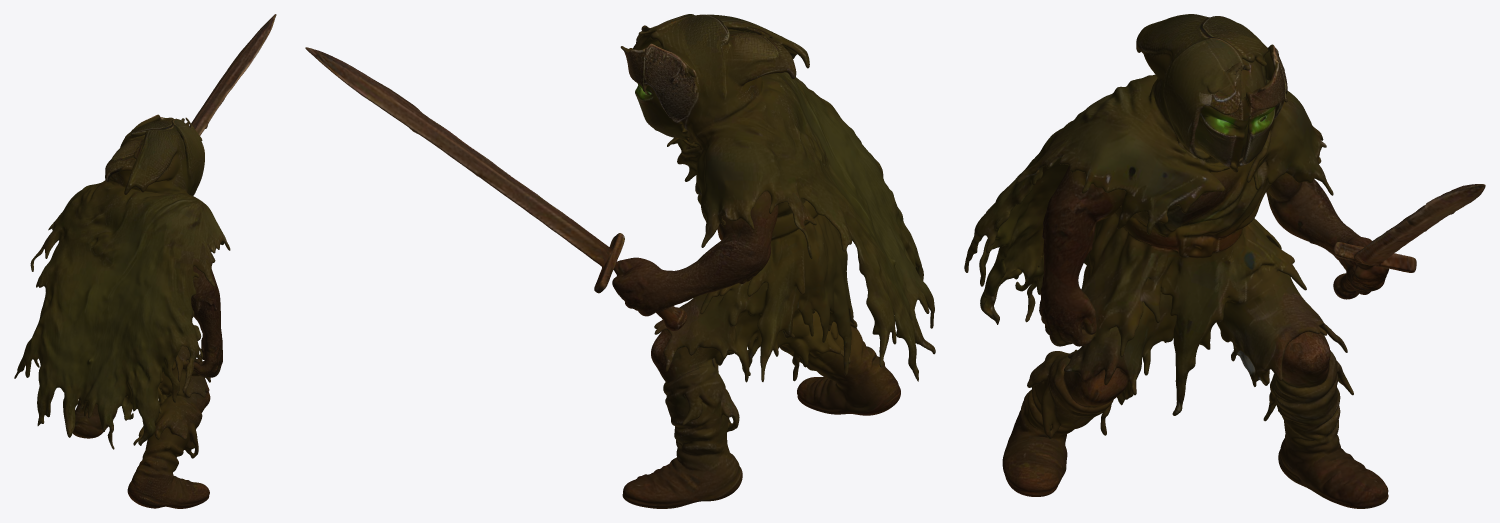
3 views of the same model, side by side, from view 1: azimuth 30°, elevation 25°; view 2: azimuth 150°, elevation 25°; view 3: azimuth 270°, elevation 25° (orthographic). The views are drawn at different scales.
Visible parts, largest first — view 1: tripo_node_5dc2ac71-28a2-4560-be86-e5472d33cbaf; view 2: tripo_node_5dc2ac71-28a2-4560-be86-e5472d33cbaf; view 3: tripo_node_5dc2ac71-28a2-4560-be86-e5472d33cbaf.
Part boxes in pixels (x1,y1,x2,y2): tripo_node_5dc2ac71-28a2-4560-be86-e5472d33cbaf: (14, 14, 276, 508); tripo_node_5dc2ac71-28a2-4560-be86-e5472d33cbaf: (305, 14, 935, 508); tripo_node_5dc2ac71-28a2-4560-be86-e5472d33cbaf: (964, 14, 1485, 508).
Size of the model in its own units: 1 by 0.8954 by 0.8667.
Materials: 1 (1 with a texture image).
